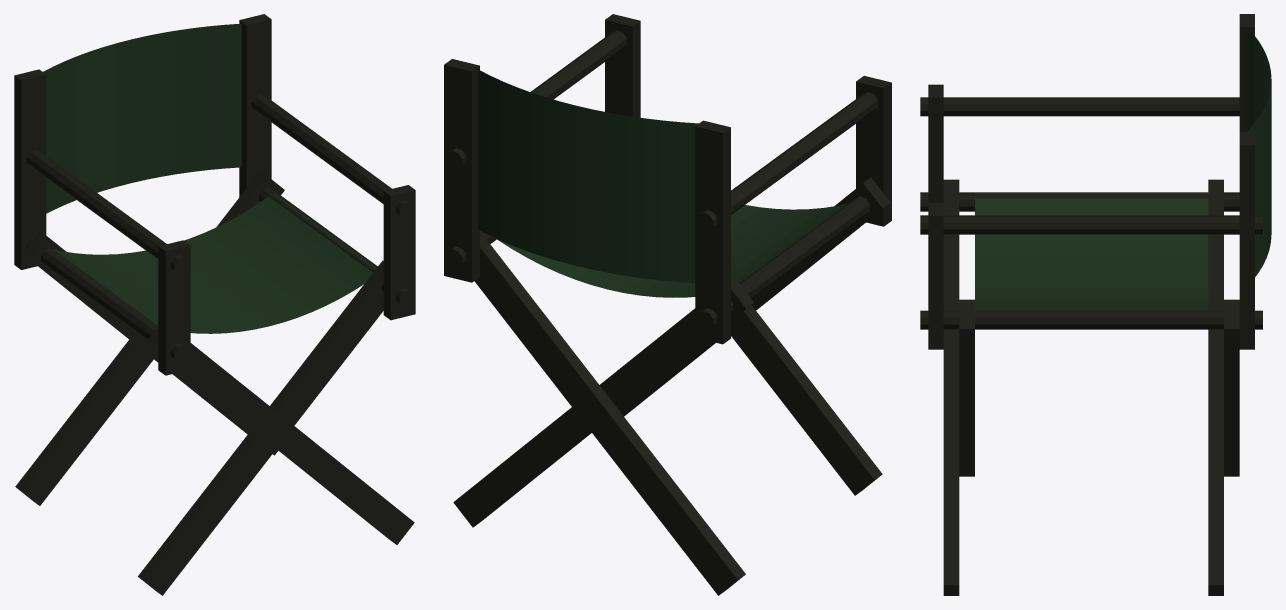
File: Folding3.glb
3 views of the same model, side by side, from view 1: azimuth 30°, elevation 25°; view 2: azimuth 150°, elevation 25°; view 3: azimuth 270°, elevation 25° (orthographic). The views are drawn at different scales.
Parts seen in each view (by area): view 1: Node-Mesh, Node-Mesh_1; view 2: Node-Mesh, Node-Mesh_1; view 3: Node-Mesh, Node-Mesh_1.
Boxes of the visible parts, x1,y1,x2,y2 form: Node-Mesh: (14,14,415,595); Node-Mesh_1: (43,23,376,333); Node-Mesh: (444,14,891,595); Node-Mesh_1: (478,69,853,297); Node-Mesh: (920,14,1262,595); Node-Mesh_1: (975,27,1271,311).
Size of the model in its own units: 21.04 by 32.41 by 22.56.
